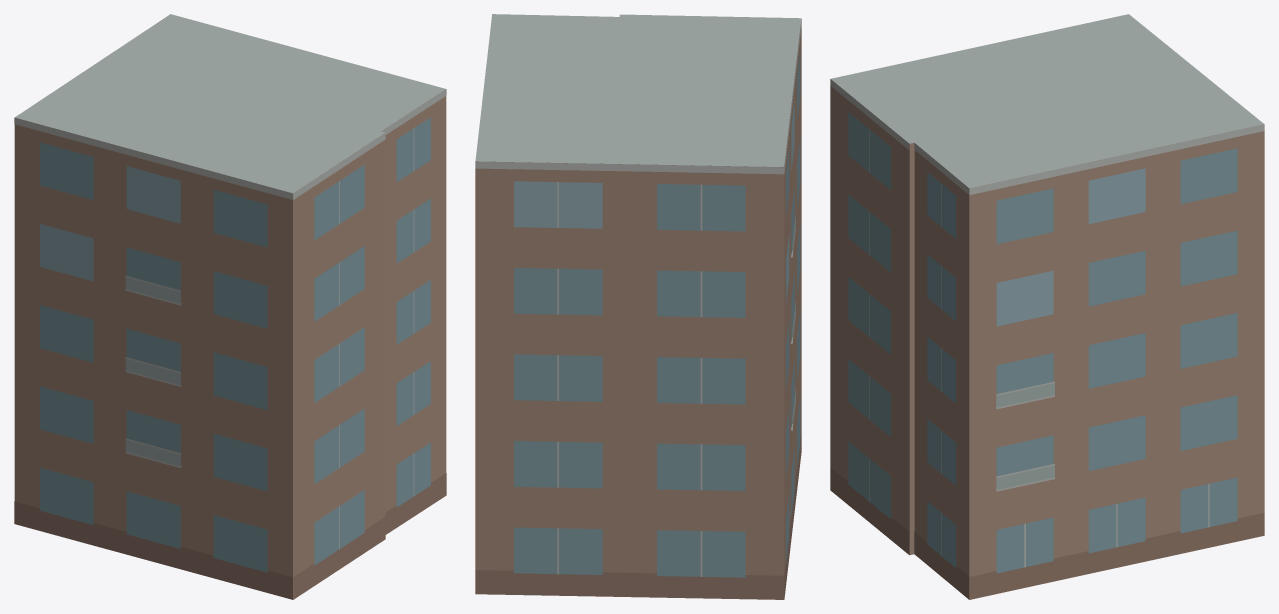
File: survey-upis-32833922.glb
The picture shows the model from 3 angles, left to right: view 1: azimuth 30°, elevation 25°; view 2: azimuth 150°, elevation 25°; view 3: azimuth 270°, elevation 25°; orthographic projection. The views are drawn at different scales.
Parts seen in each view (by area): view 1: survey-upis-32833922.tmp; view 2: survey-upis-32833922.tmp; view 3: survey-upis-32833922.tmp.
Boxes of the visible parts, x1,y1,x2,y2 form: survey-upis-32833922.tmp: [14, 14, 446, 599]; survey-upis-32833922.tmp: [475, 14, 801, 599]; survey-upis-32833922.tmp: [830, 14, 1264, 599].
Size of the model in its own units: 13.42 by 14.75 by 14.11.
